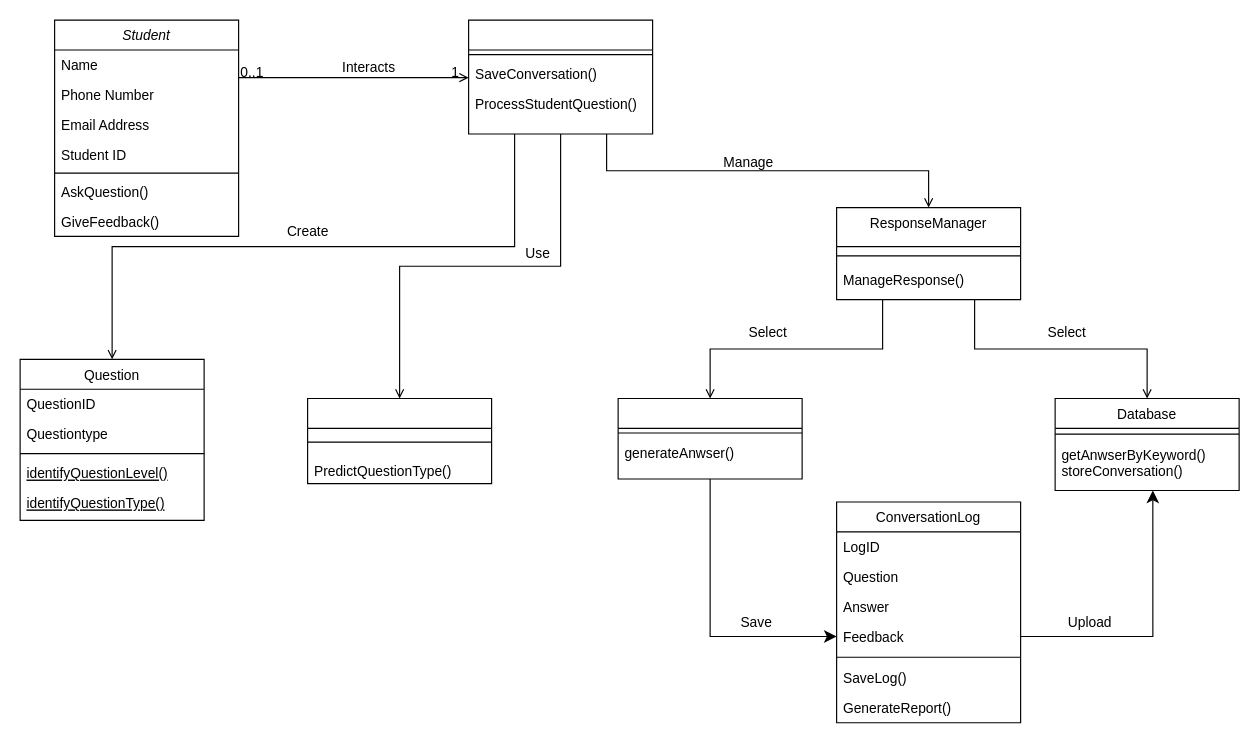
The diagram is 1259 pixels wide and 746 high, and some of its shapes have lost their labels. Each missing label, with the box of its shape:
AI Buddy WebApp: (467, 19, 653, 134)
Llama 3 engine: (617, 397, 802, 479)
QuestionClassifier: (306, 397, 492, 484)
